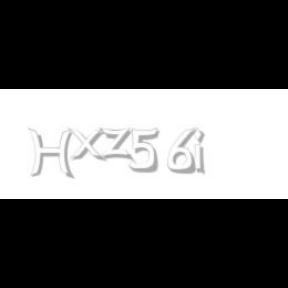5: (128, 128, 160, 174)
6: (168, 128, 196, 176)
H: (28, 128, 74, 180)
i: (192, 128, 208, 176)
x: (68, 128, 110, 162)
z: (99, 128, 135, 160)
